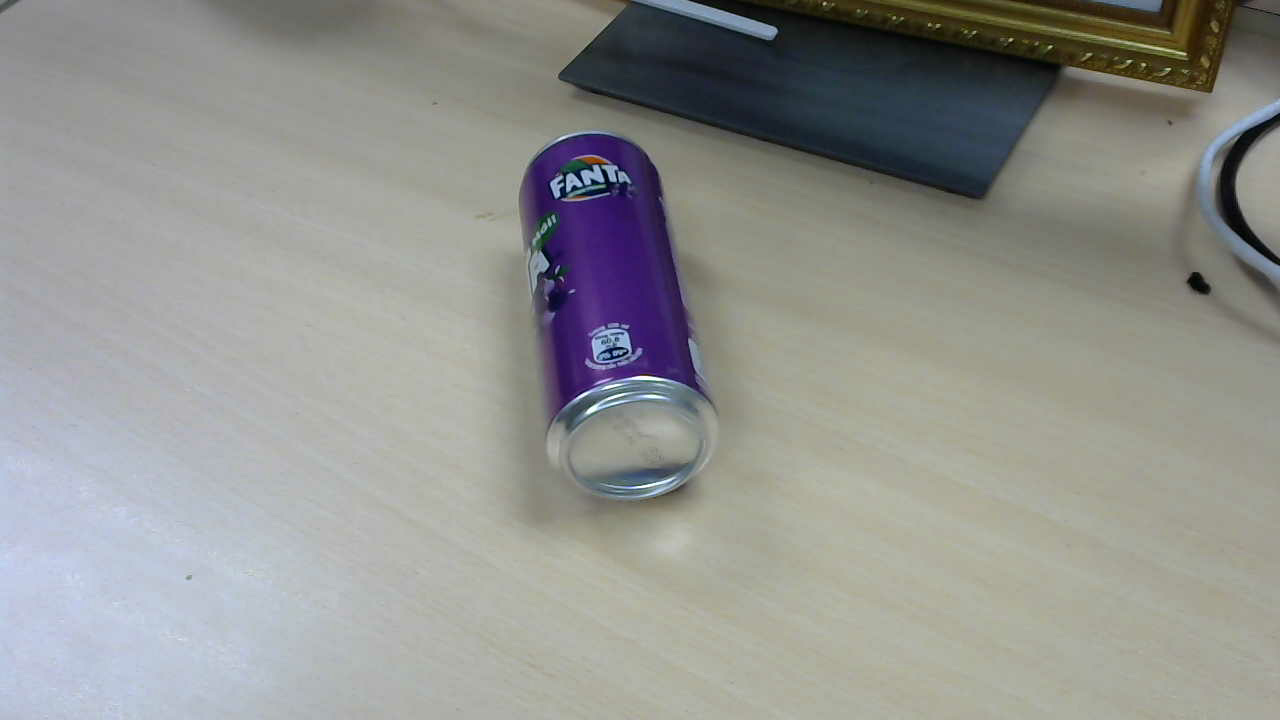Fanta: (521, 134, 724, 507)
